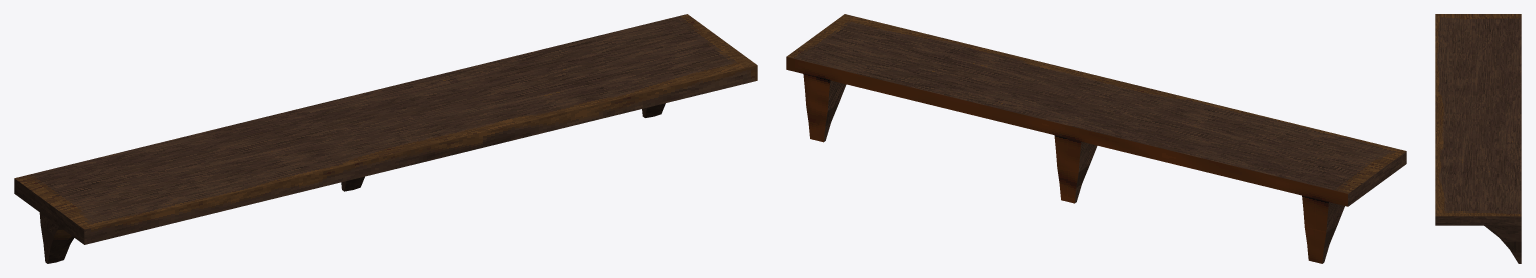
The model's file is tavern_shelf.glb.
3 renders of one model, left to right at view 1: azimuth 30°, elevation 25°; view 2: azimuth 150°, elevation 25°; view 3: azimuth 270°, elevation 25°, orthographic. The views are drawn at different scales.
Visible parts, largest first — view 1: tavern_shelf; view 2: tavern_shelf; view 3: tavern_shelf.
Part boxes in pixels (box(x1,y1,x2,y2)): tavern_shelf: box(14, 14, 757, 263); tavern_shelf: box(786, 14, 1406, 263); tavern_shelf: box(1435, 14, 1521, 263).
Bounding box in the file's own units: 3.81 × 0.4951 × 0.6879.
1 material, 1 textured.
